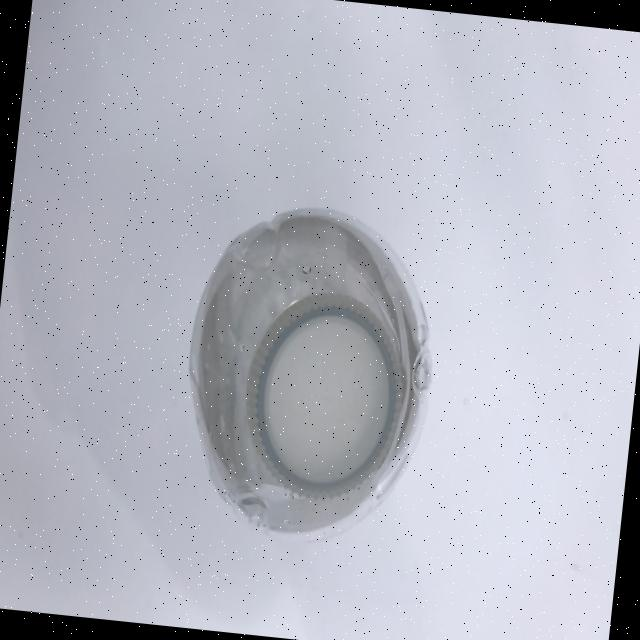plastic: (170, 193, 448, 552)
